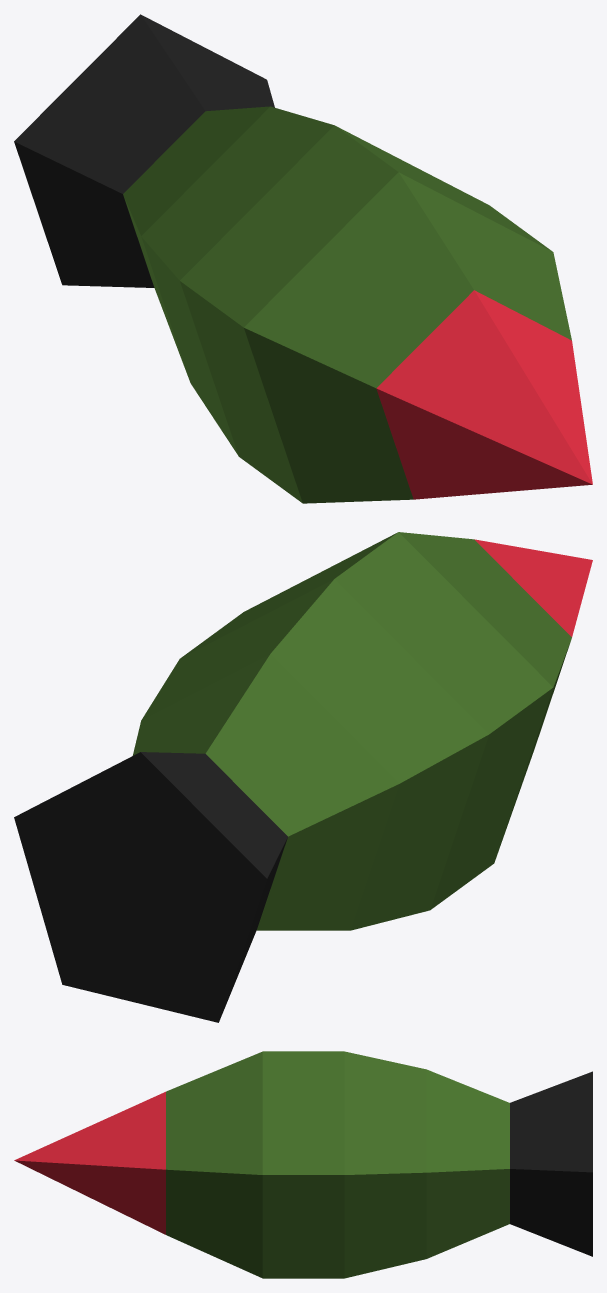
File: missile.glb
3 renders of one model, top to bottom at view 1: azimuth 30°, elevation 25°; view 2: azimuth 150°, elevation 25°; view 3: azimuth 270°, elevation 25°, orthographic. The views are drawn at different scales.
Visible parts, largest first — view 1: Cone; view 2: Cone; view 3: Cone.
Boxes of the visible parts, left/top/right/bottom form: Cone: left=14, top=14, right=592, bottom=503; Cone: left=14, top=532, right=592, bottom=1022; Cone: left=14, top=1051, right=592, bottom=1278.
Size of the model in its own units: 0.8836 by 0.8403 by 2.24.
